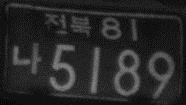1: (88, 45, 102, 95), (129, 16, 138, 42)
5: (49, 44, 76, 93)
8: (113, 48, 140, 96), (100, 15, 122, 40)
9: (146, 49, 175, 97)
나: (11, 40, 41, 77)
전북_O: (44, 12, 92, 38)
